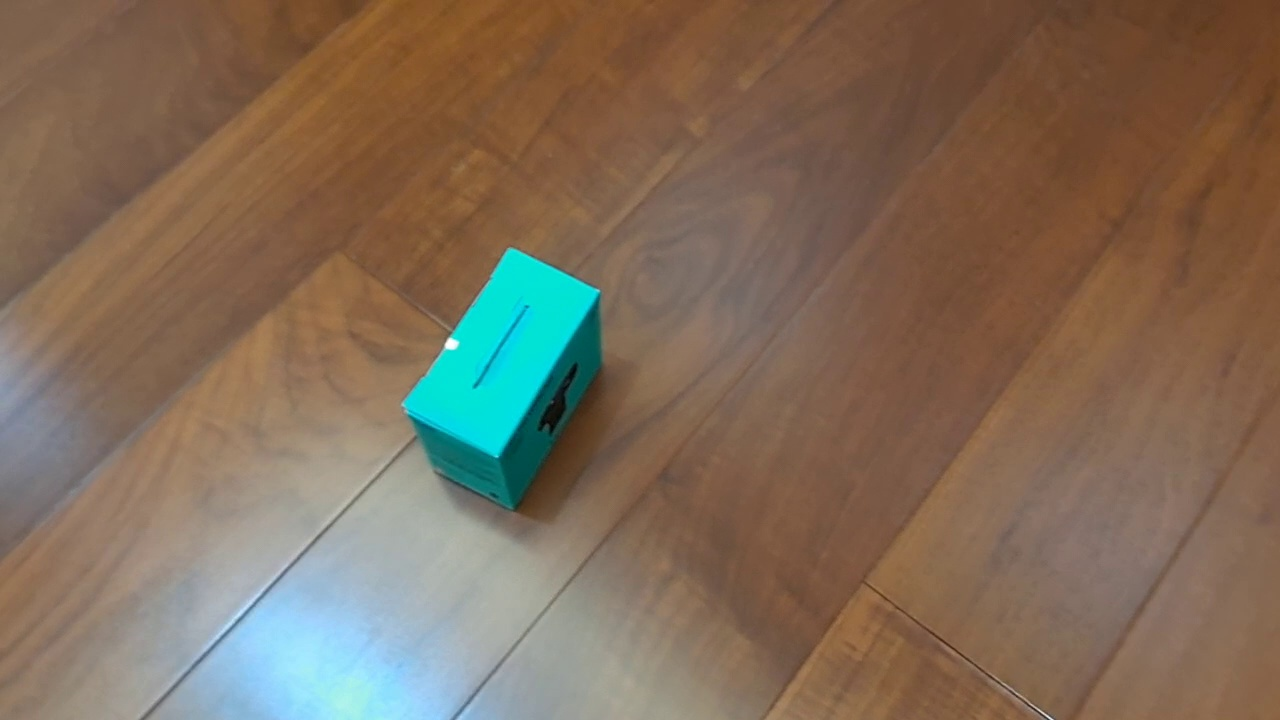webcam: (400, 245, 604, 512)
